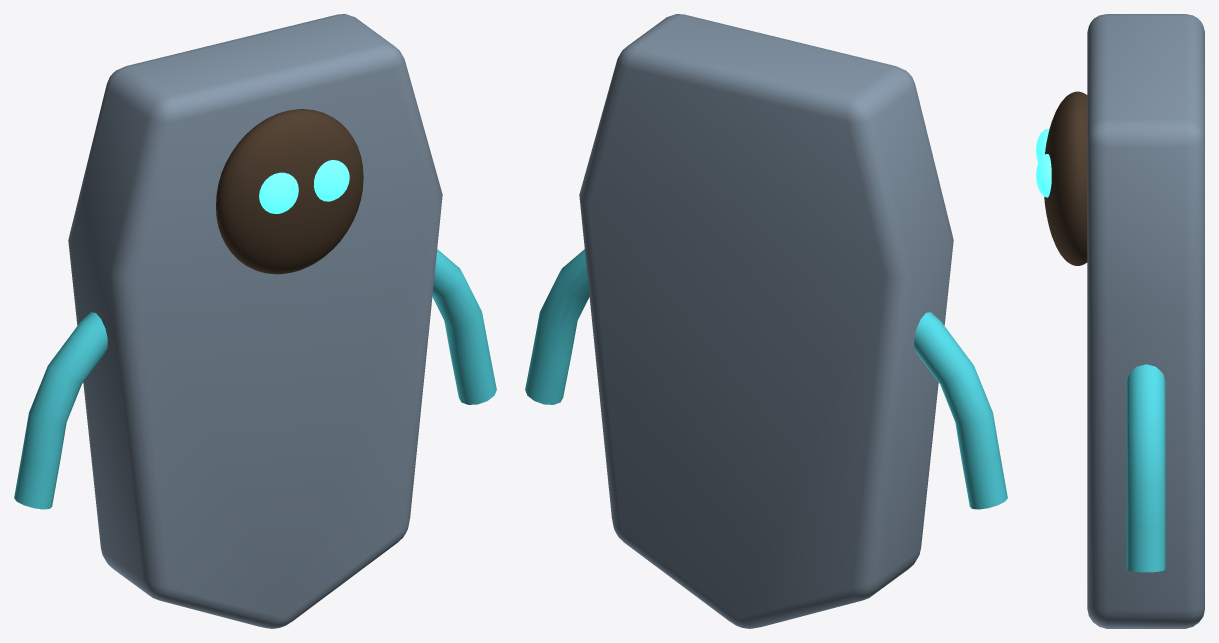
The model's file is undead_v7.glb.
3 renders of one model, left to right at view 1: azimuth 30°, elevation 25°; view 2: azimuth 150°, elevation 25°; view 3: azimuth 270°, elevation 25°, orthographic.
Parts seen in each view (by area): view 1: COFFIN_BODY_PRIMARY, COFFIN_SKULL_SECONDARY, COFFIN_ARM_ACCENT, COFFIN_ARM_ACCENT.001, EYE_EMISSIVE, EYE_EMISSIVE.001; view 2: COFFIN_BODY_PRIMARY, COFFIN_ARM_ACCENT, COFFIN_ARM_ACCENT.001; view 3: COFFIN_BODY_PRIMARY, COFFIN_ARM_ACCENT.001, COFFIN_SKULL_SECONDARY, EYE_EMISSIVE.001, EYE_EMISSIVE.
Part boxes in pixels (<box>): COFFIN_BODY_PRIMARY: <box>68,14,442,628</box>; COFFIN_SKULL_SECONDARY: <box>216,109,363,274</box>; COFFIN_ARM_ACCENT: <box>14,312,107,509</box>; COFFIN_ARM_ACCENT.001: <box>432,249,496,404</box>; EYE_EMISSIVE: <box>259,172,298,213</box>; EYE_EMISSIVE.001: <box>313,160,349,201</box>; COFFIN_BODY_PRIMARY: <box>579,14,953,628</box>; COFFIN_ARM_ACCENT: <box>914,312,1007,509</box>; COFFIN_ARM_ACCENT.001: <box>525,249,589,404</box>; COFFIN_BODY_PRIMARY: <box>1087,14,1204,628</box>; COFFIN_ARM_ACCENT.001: <box>1126,364,1165,572</box>; COFFIN_SKULL_SECONDARY: <box>1044,91,1087,265</box>; EYE_EMISSIVE.001: <box>1036,154,1051,197</box>; EYE_EMISSIVE: <box>1036,129,1049,162</box>.
Bounding box in the file's own units: 2.25 × 2.51 × 0.69.
